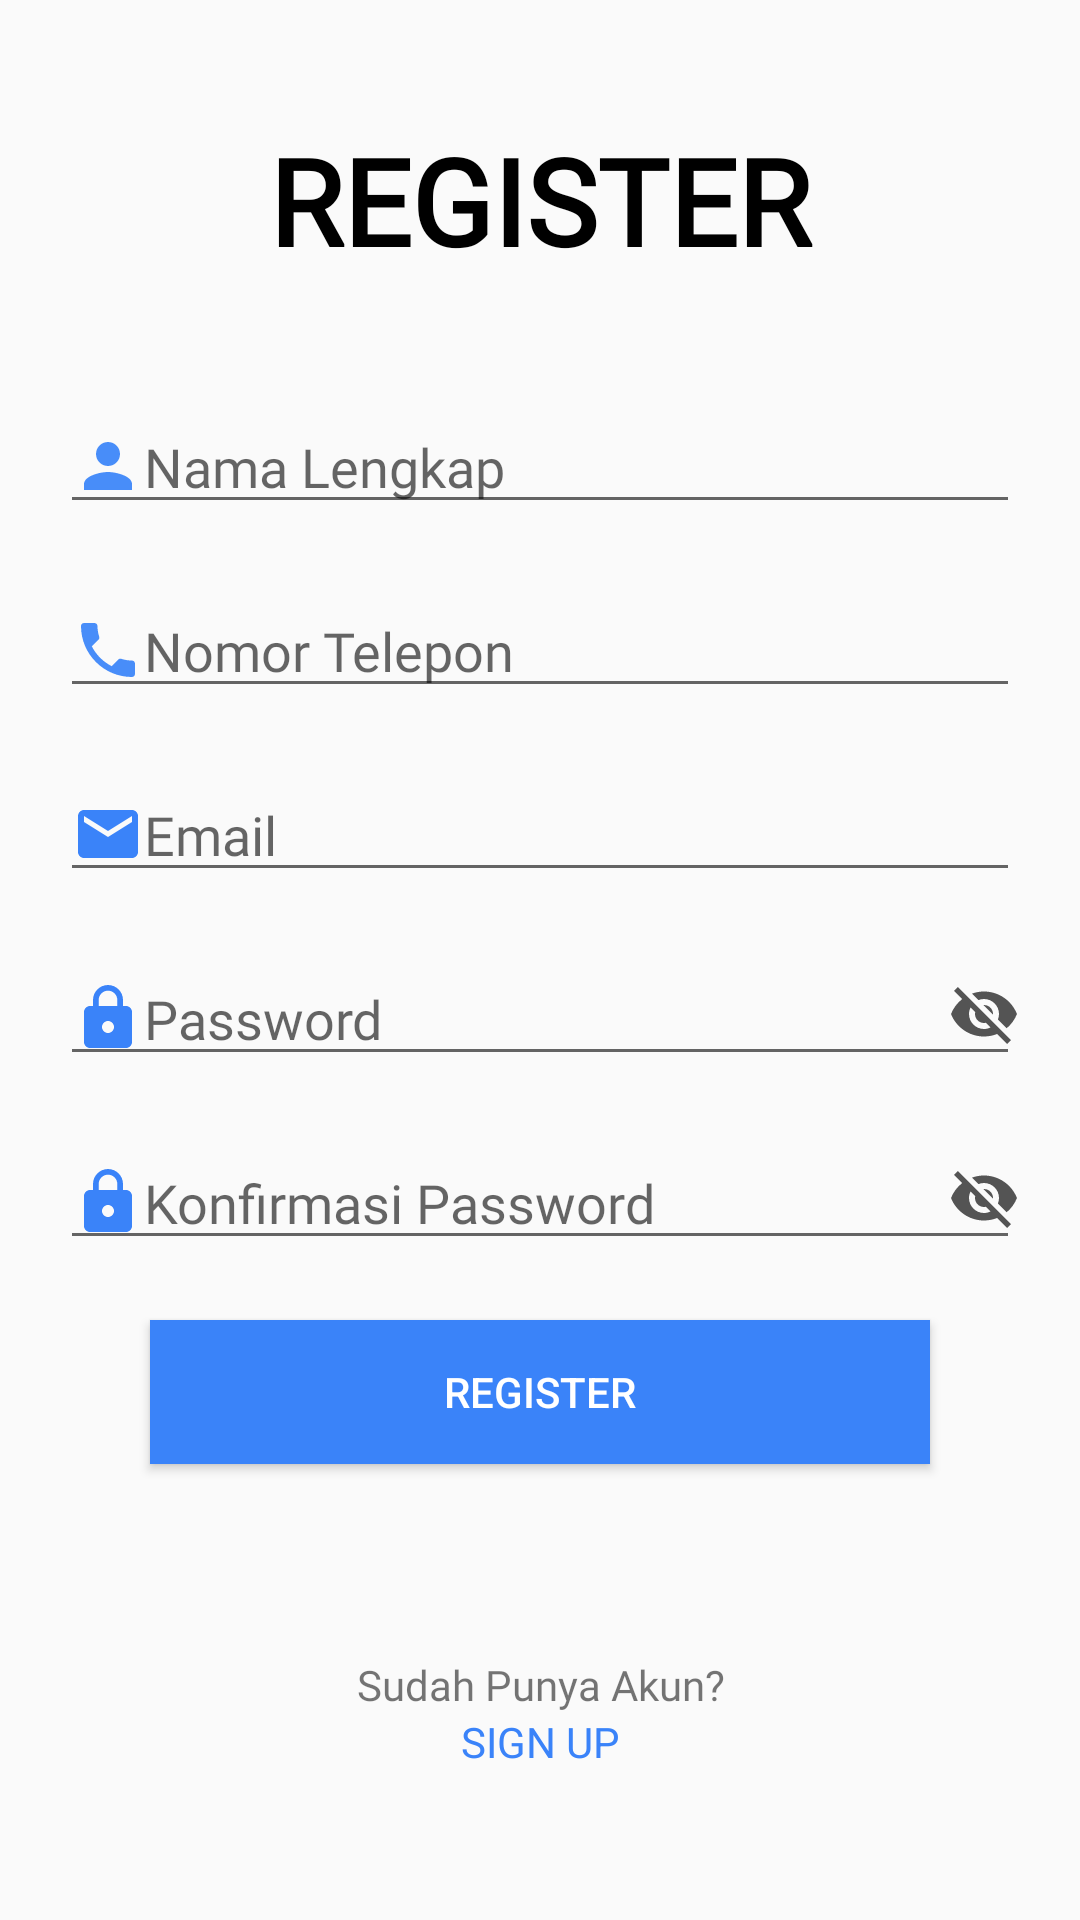

Icons on this 1080w x 1920h Android screen, each with the point to tap as (x=x, y=y):
hide pass: (x=984, y=1015), (x=984, y=1199)
